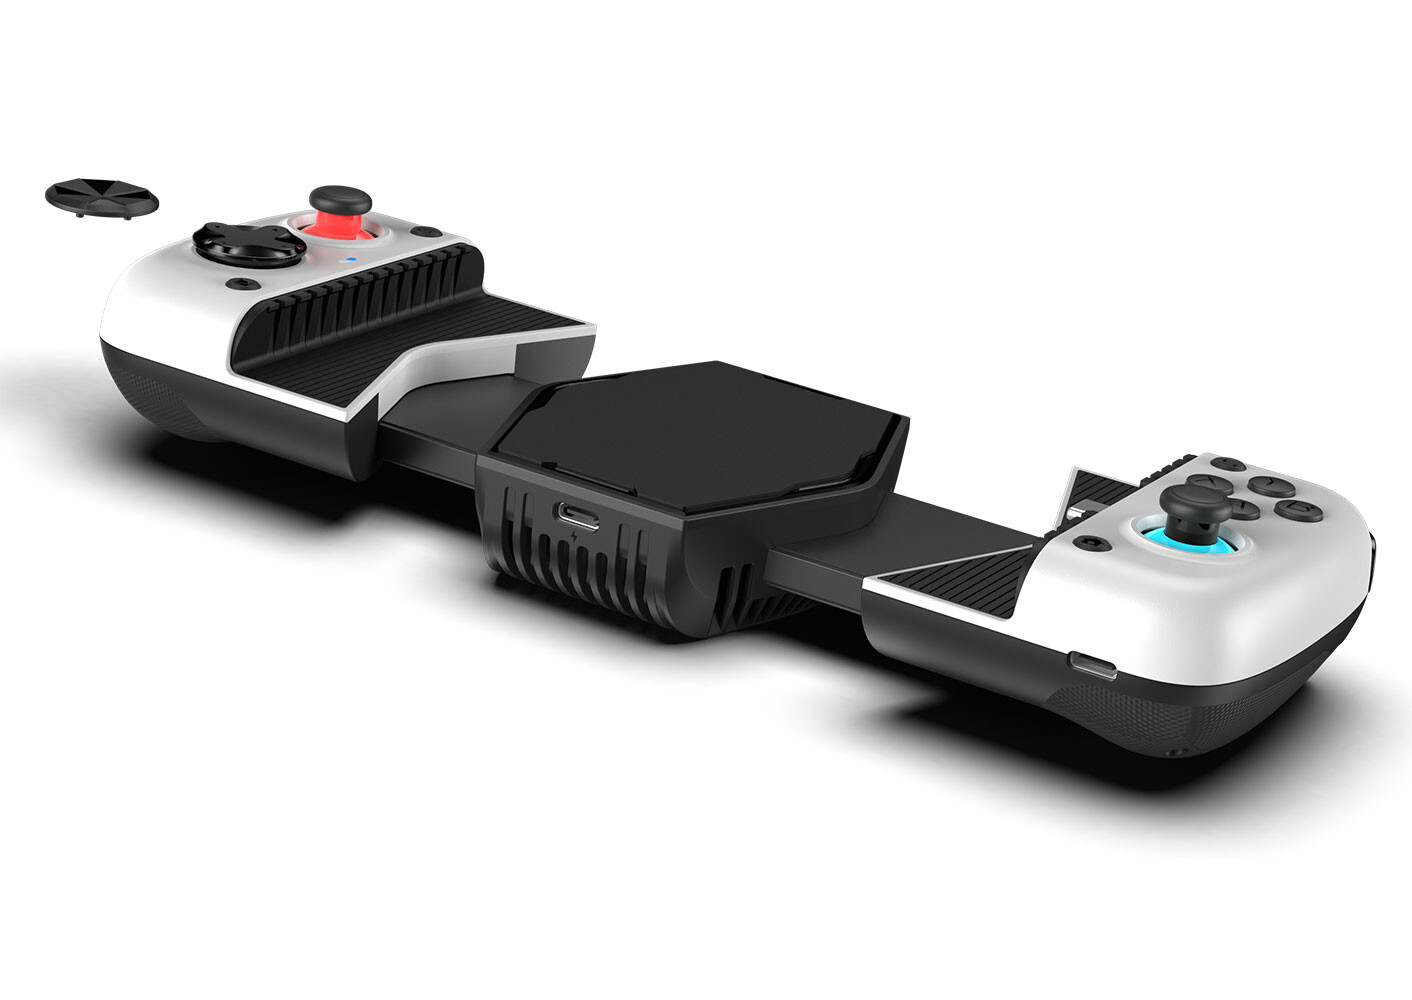controller: (98, 185, 1378, 792)
